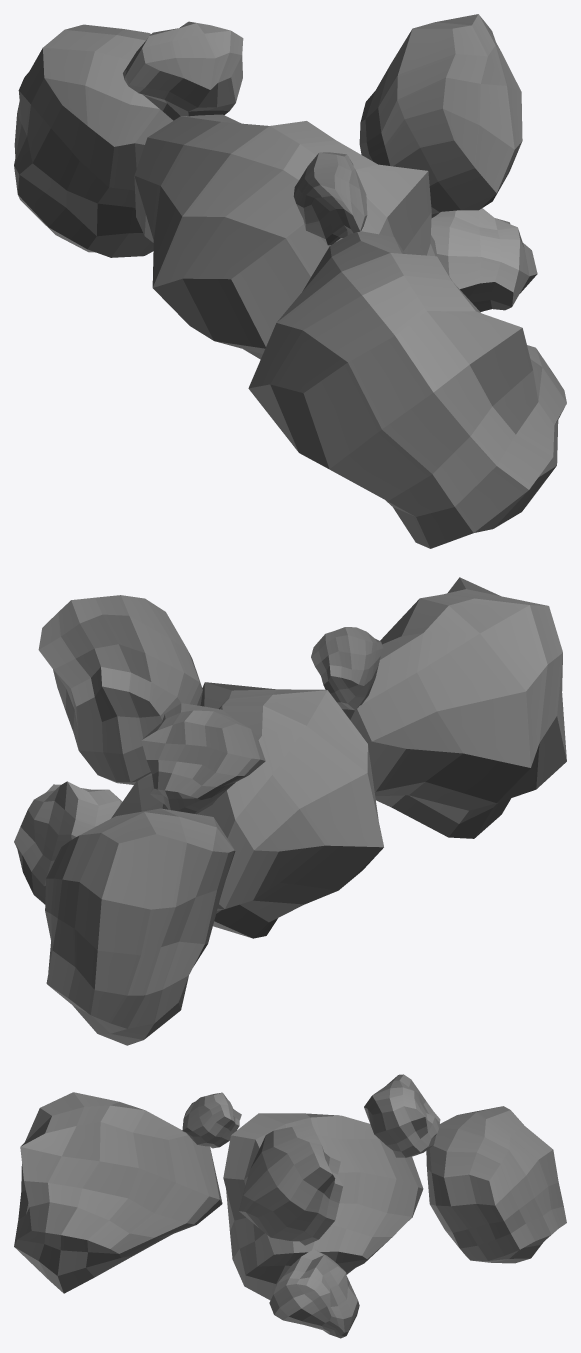
Rendered from Stone.fbx.
3 views of the same model, one above another, from view 1: azimuth 30°, elevation 25°; view 2: azimuth 150°, elevation 25°; view 3: azimuth 270°, elevation 25° (orthographic). The views are drawn at different scales.
Parts seen in each view (by area): view 1: polySurface15; view 2: polySurface15; view 3: polySurface15.
Boxes of the visible parts, box(x1,y1,x2,y2) form: polySurface15: box(14, 14, 566, 548); polySurface15: box(14, 577, 566, 1045); polySurface15: box(14, 1074, 566, 1338).
Size of the model in its own units: 199 by 156 by 372.
Materials: 1 (1 with a texture image).
